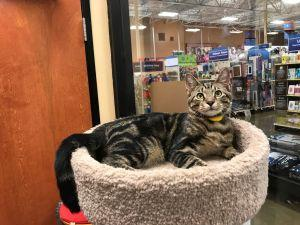bengal: (184, 68, 241, 122)
